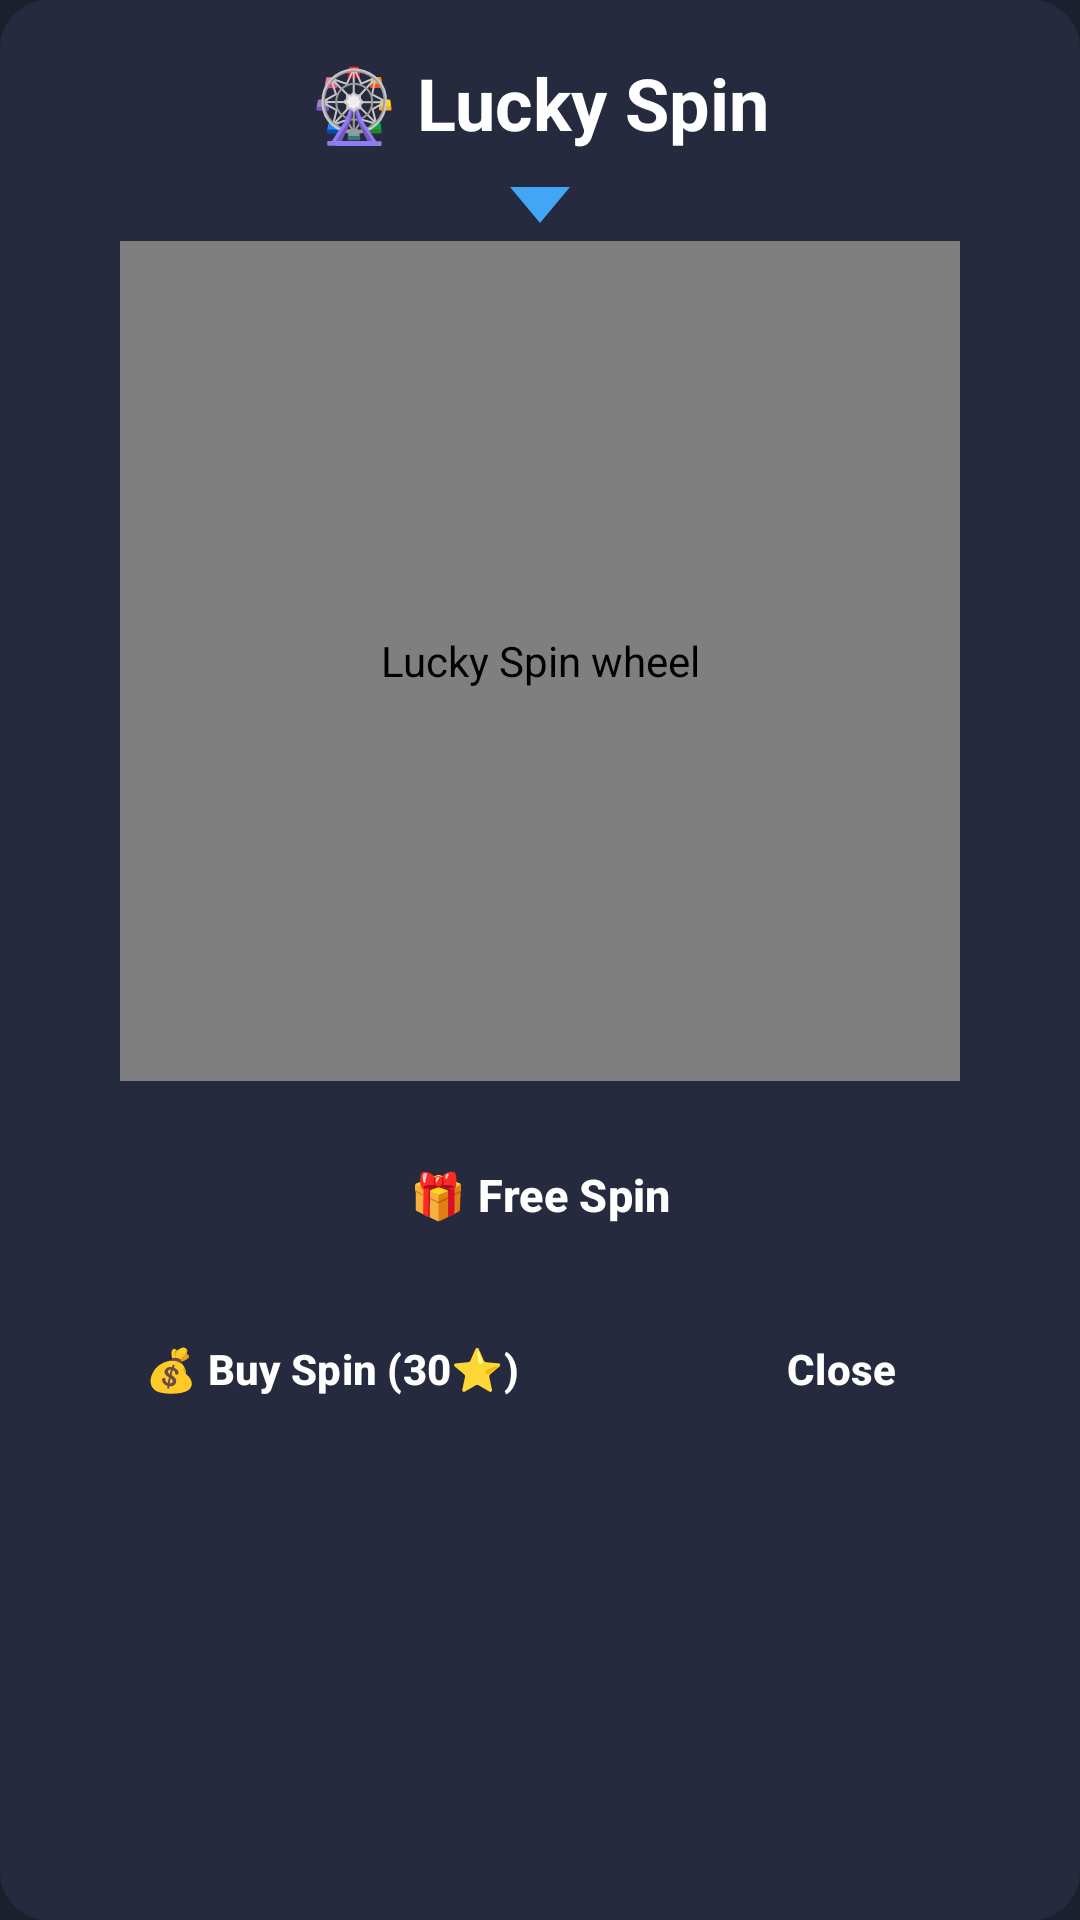

Named icons in this screenshot (1080 × 1920) and their bounding boxes, (x1, y1, x2, y2):
wheel pointer: (510, 187, 570, 223)
